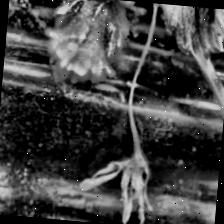Gray Mold: (77, 137, 158, 224)
